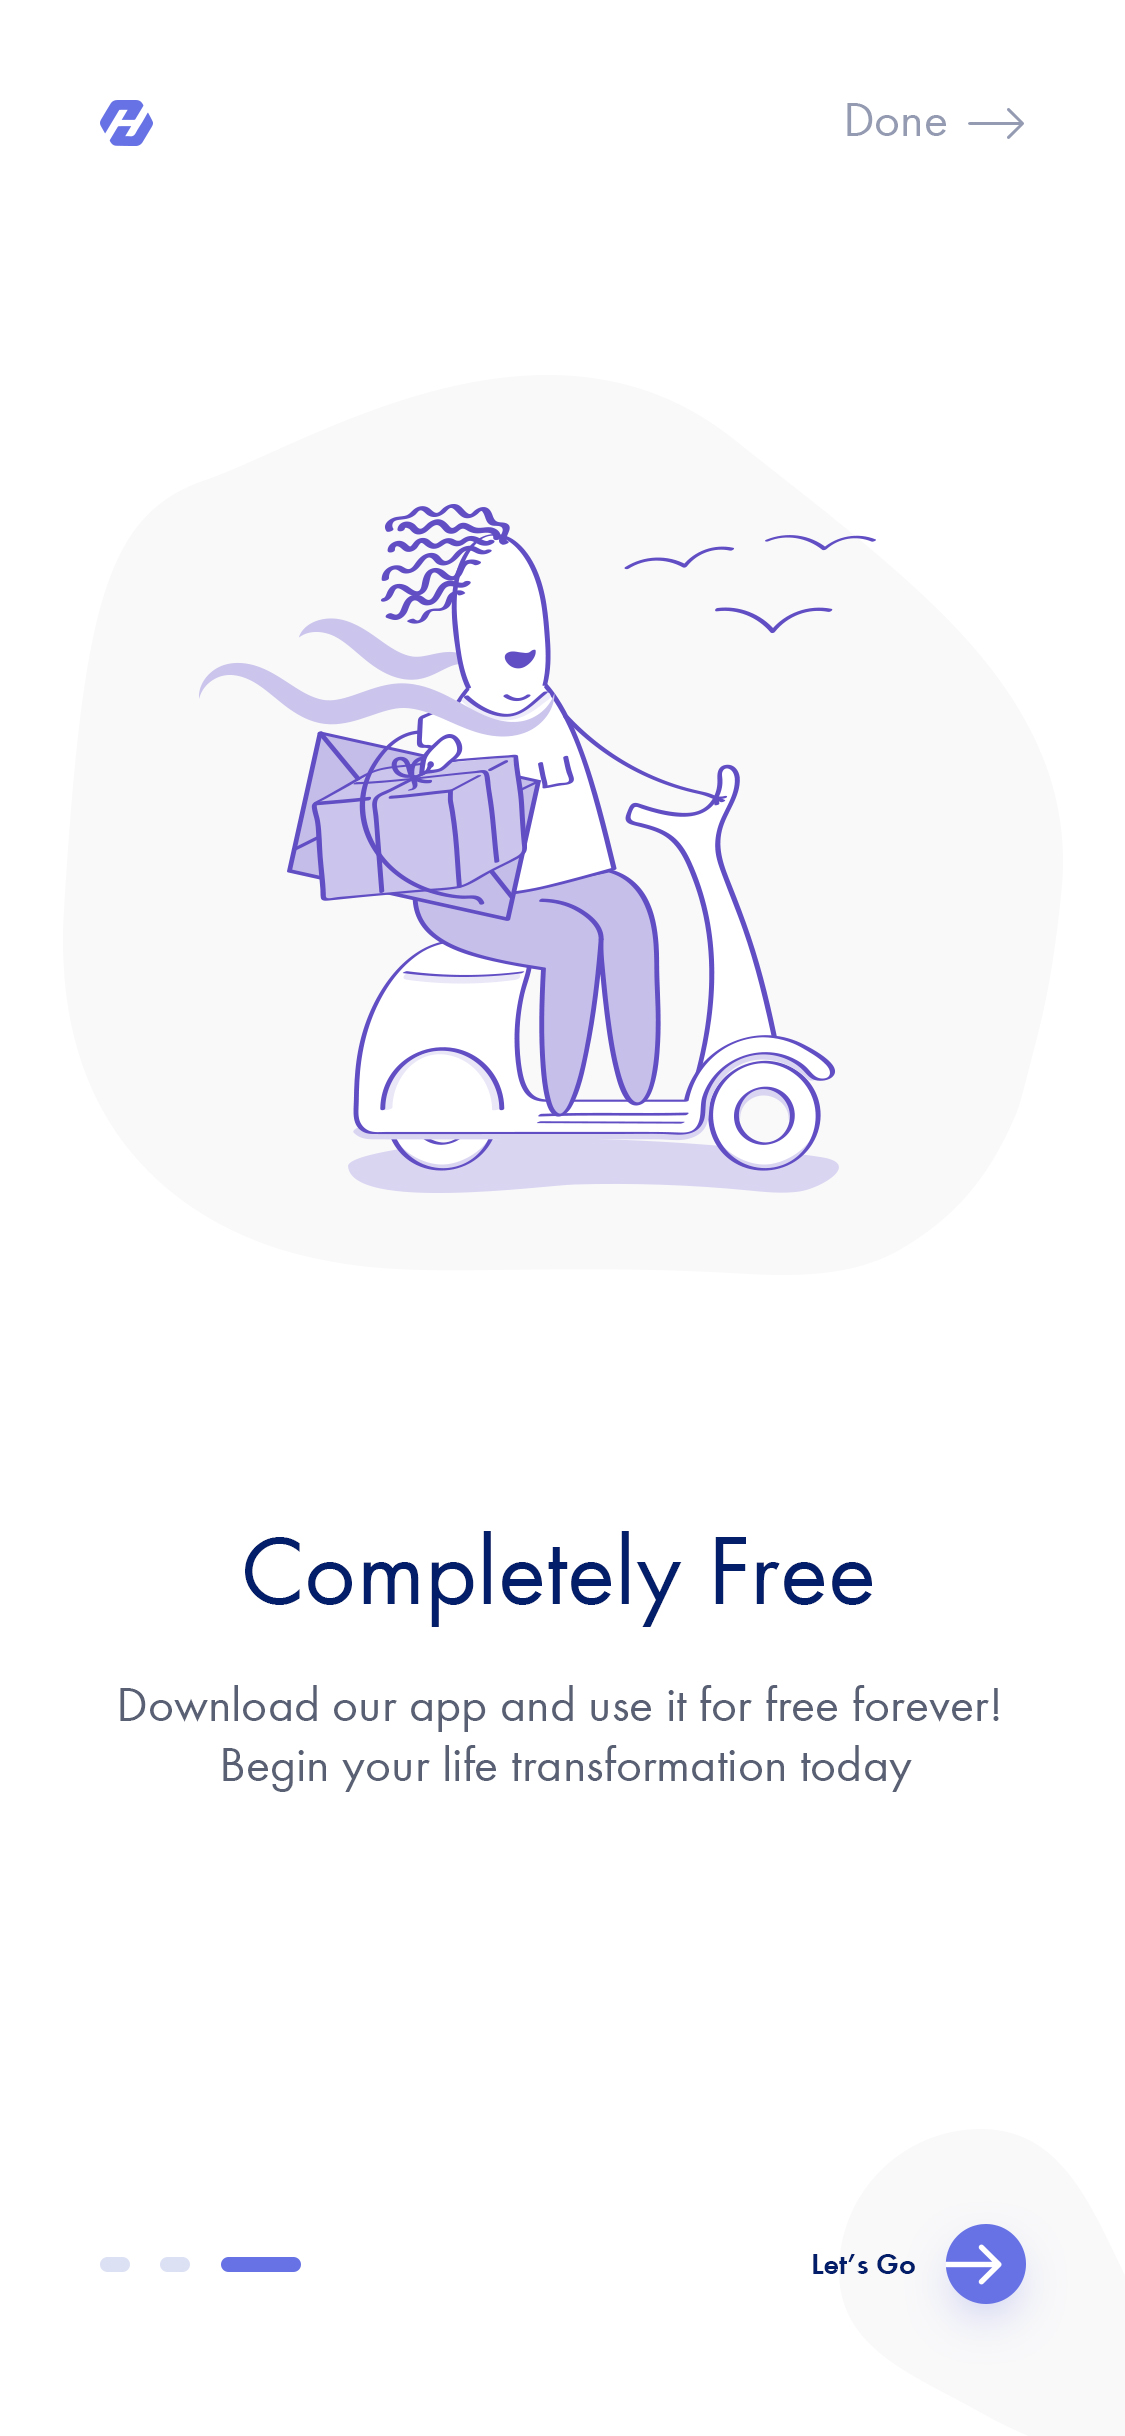Icon: (945, 2223, 1027, 2304), (967, 109, 1026, 141)
Image: (61, 374, 1066, 1272)
PageIndicator: (99, 2254, 303, 2273)
Text: (120, 1684, 999, 1793), (246, 1530, 873, 1628), (847, 103, 946, 138), (813, 2253, 915, 2276)
